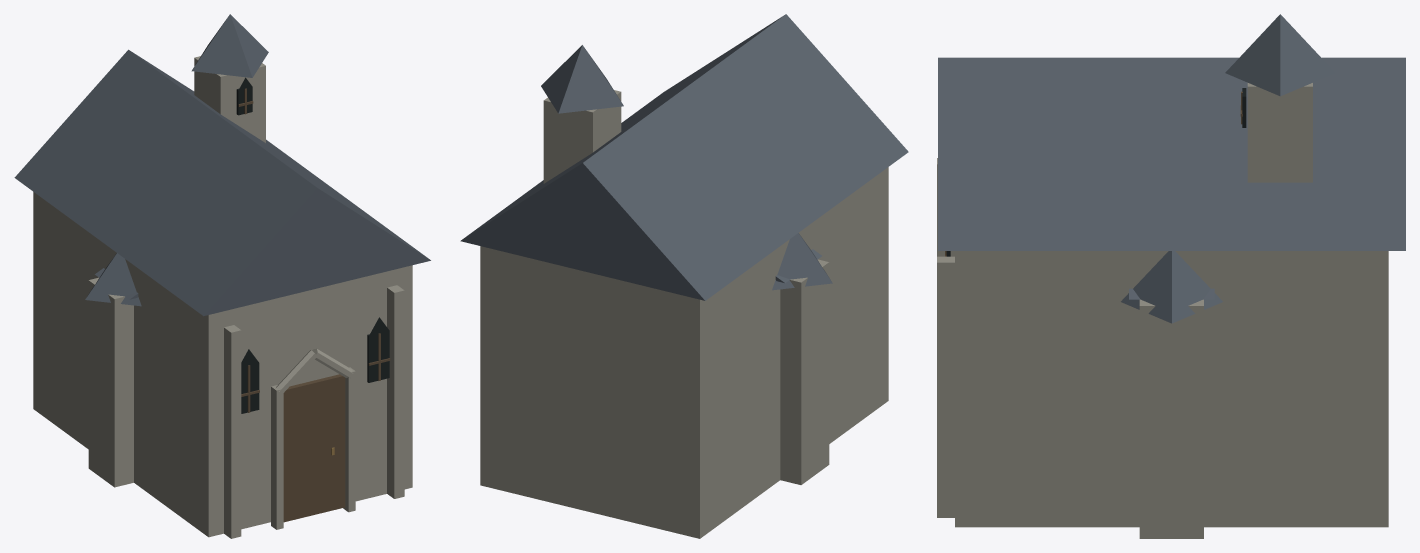
The model's file is dawn.glb.
3 views of the same model, side by side, from view 1: azimuth 30°, elevation 25°; view 2: azimuth 150°, elevation 25°; view 3: azimuth 270°, elevation 25° (orthographic). The views are drawn at different scales.
Parts seen in each view (by area): view 1: VIL_DAWN_CHAPEL, VIL_DAWN_GATE; view 2: VIL_DAWN_CHAPEL, VIL_DAWN_GATE; view 3: VIL_DAWN_CHAPEL, VIL_DAWN_GATE.
Boxes of the visible parts, box(x1,y1,x2,y2) form: VIL_DAWN_CHAPEL: box(14, 14, 430, 538); VIL_DAWN_GATE: box(85, 253, 141, 487); VIL_DAWN_CHAPEL: box(460, 14, 908, 538); VIL_DAWN_GATE: box(772, 233, 832, 484); VIL_DAWN_CHAPEL: box(937, 14, 1405, 527); VIL_DAWN_GATE: box(1121, 251, 1222, 538).
Bounding box in the file's own units: 4.6 × 6.27 × 5.47.
